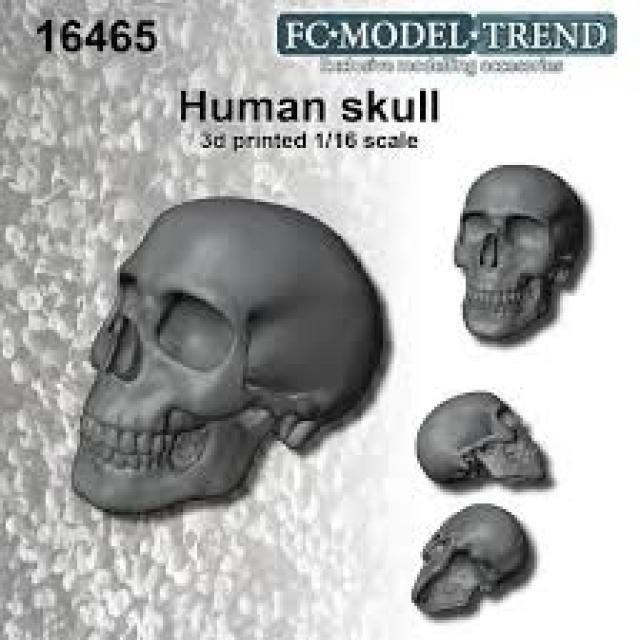skull: (70, 175, 404, 547)
